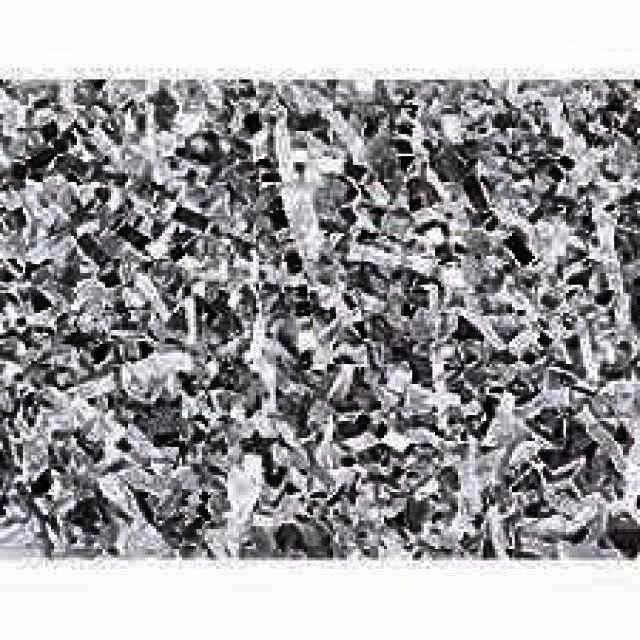Paper: (0, 77, 637, 557)
